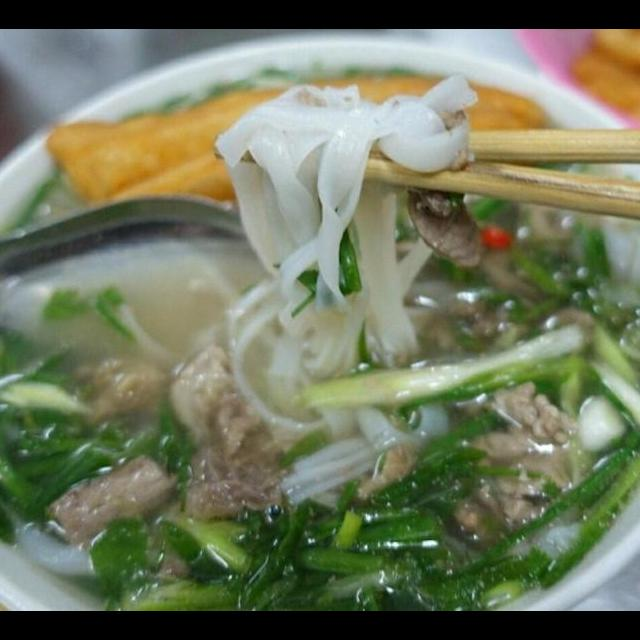banh pho: (204, 61, 486, 386), (267, 398, 453, 515)
pho bo: (0, 63, 640, 611)
thit bo: (154, 340, 300, 537), (456, 374, 590, 544), (36, 444, 190, 556), (402, 178, 492, 271)
